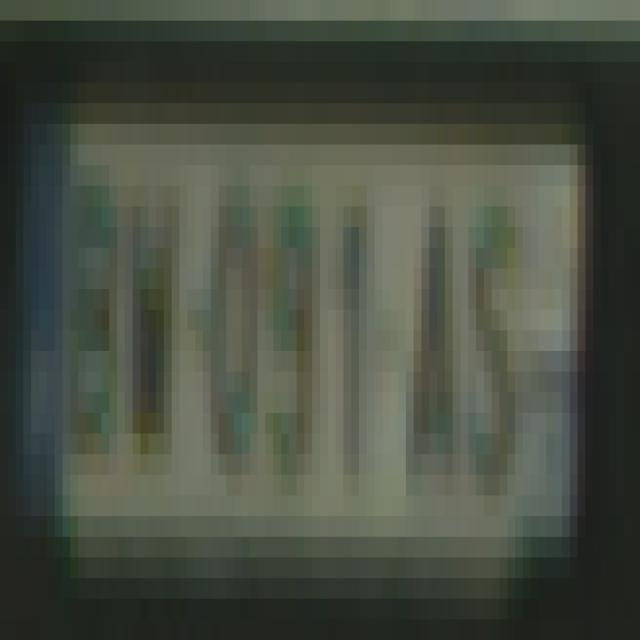Autre: (14, 116, 588, 607)
